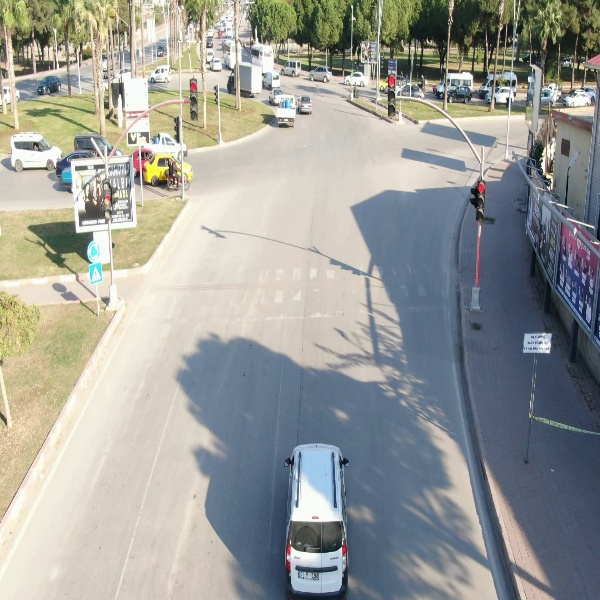car: (281, 440, 353, 600), (7, 131, 64, 175), (34, 73, 64, 99), (563, 87, 593, 109), (305, 65, 335, 84), (148, 65, 174, 85), (279, 58, 301, 80), (341, 70, 366, 89), (297, 92, 315, 118)
